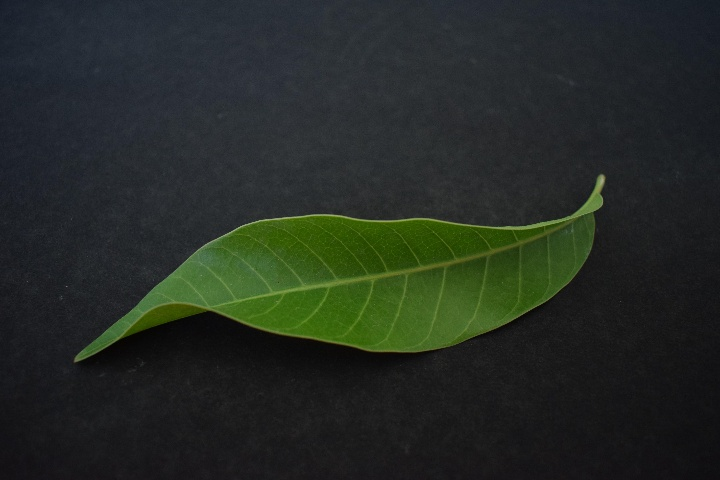healthy: (94, 205, 634, 359)
